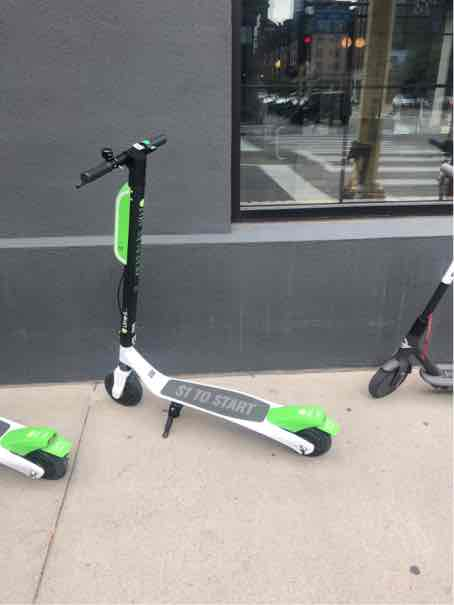scooter: (68, 130, 343, 465)
